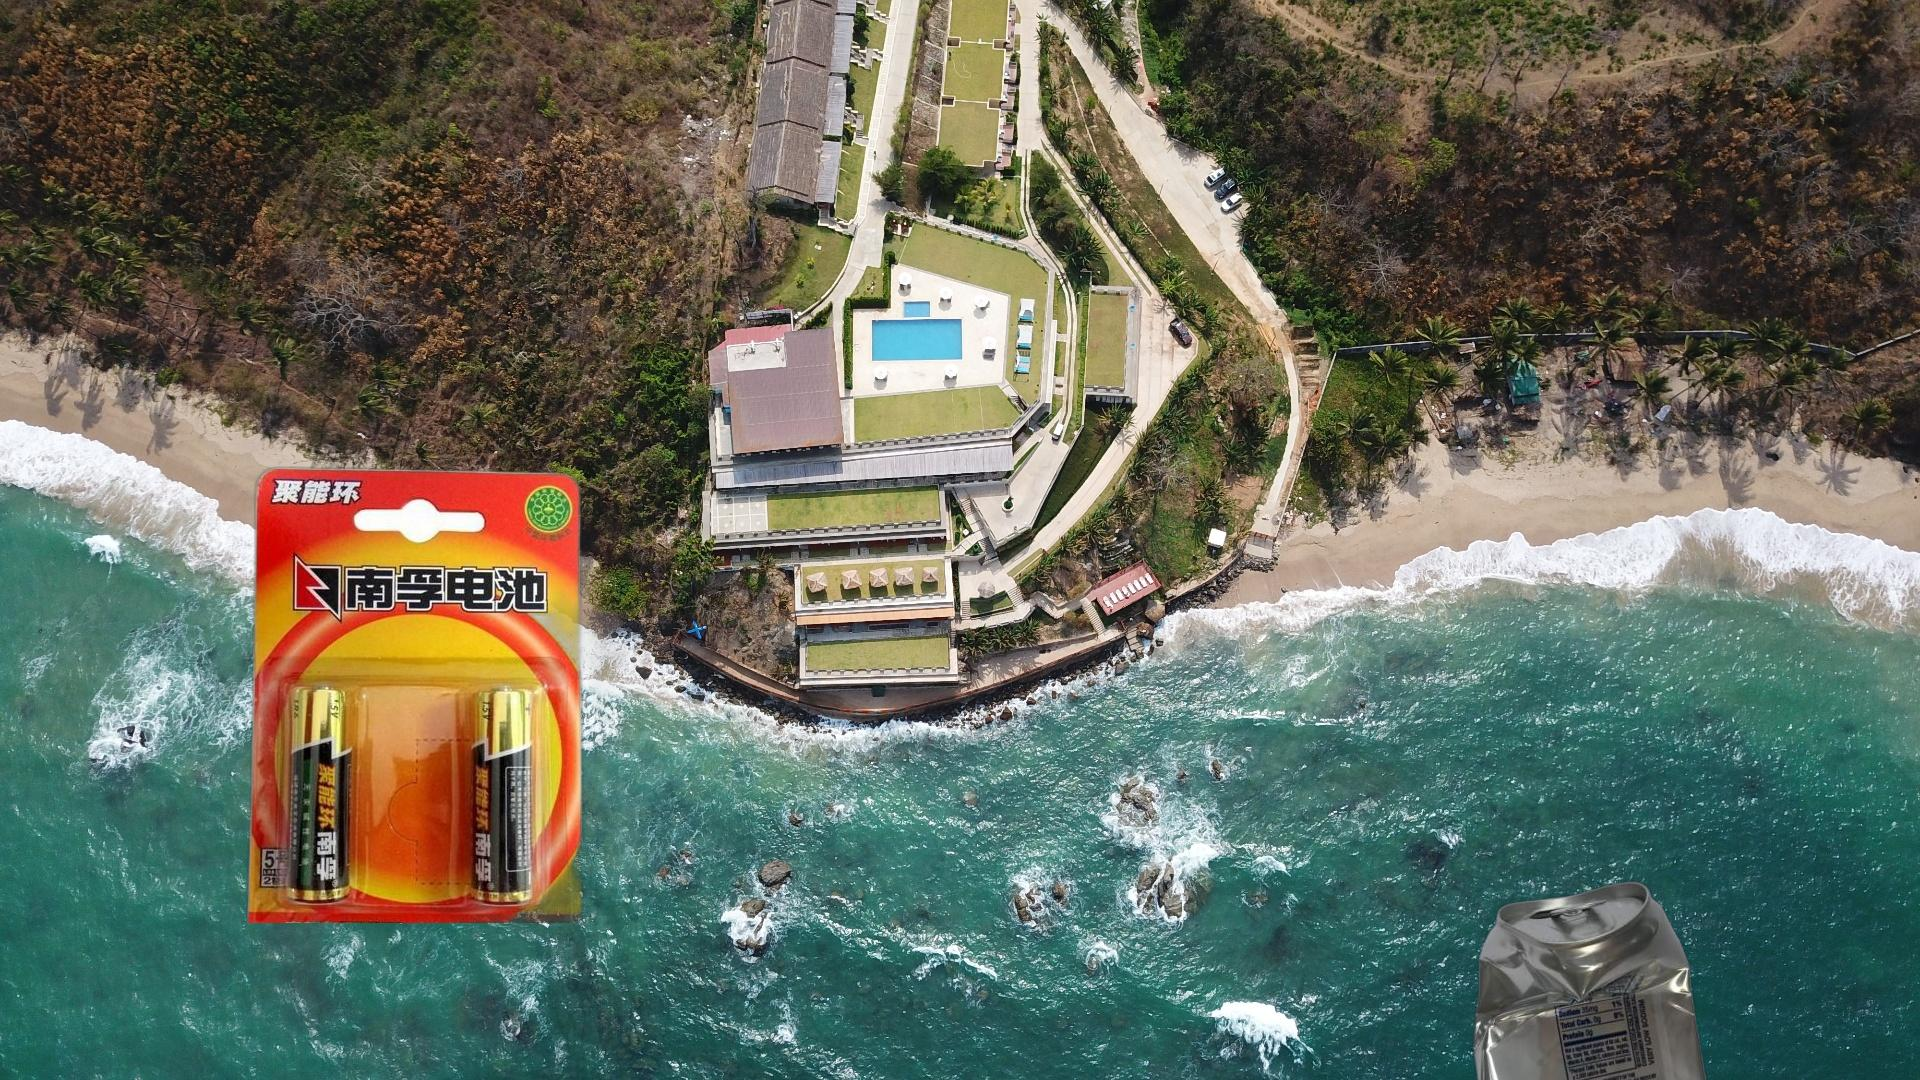battery: (243, 454, 820, 923)
metal-cans: (1469, 880, 1730, 1080)
